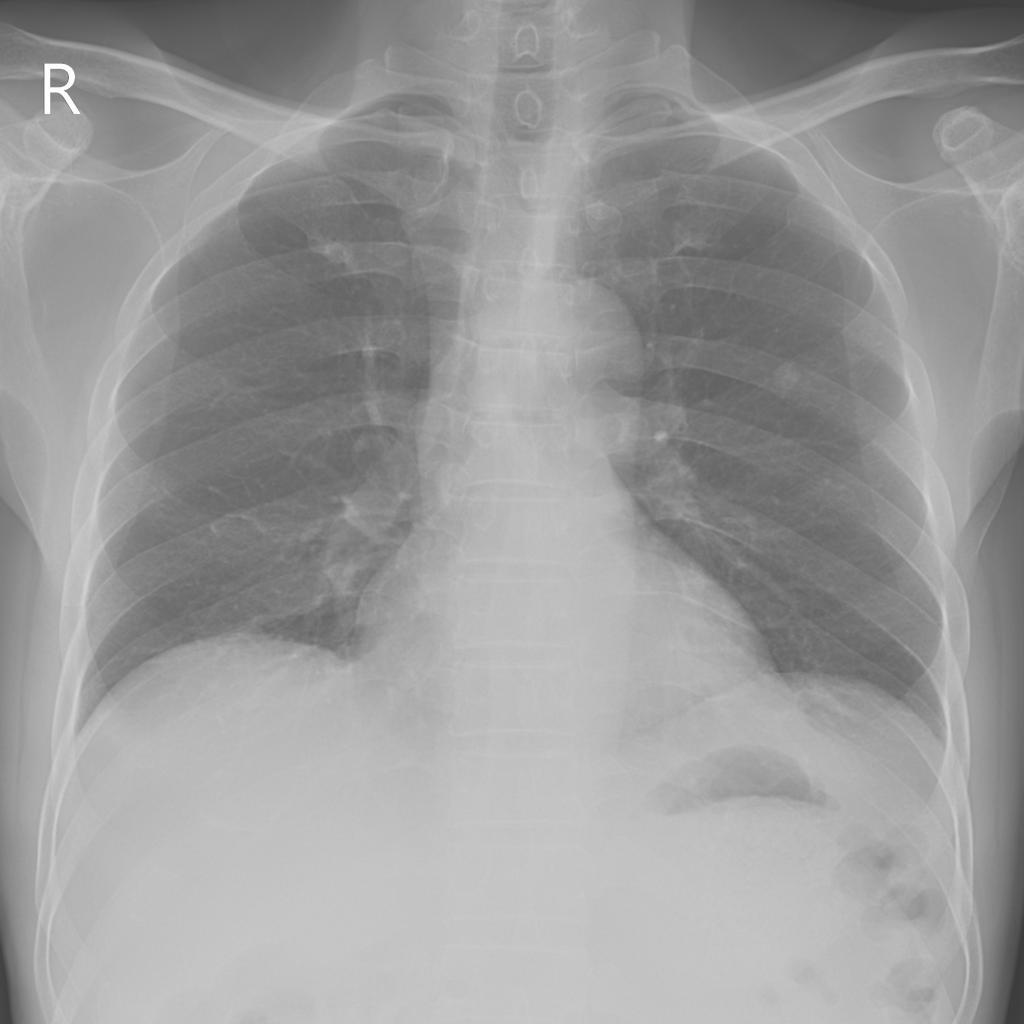Nodule: (772, 358, 803, 392)
